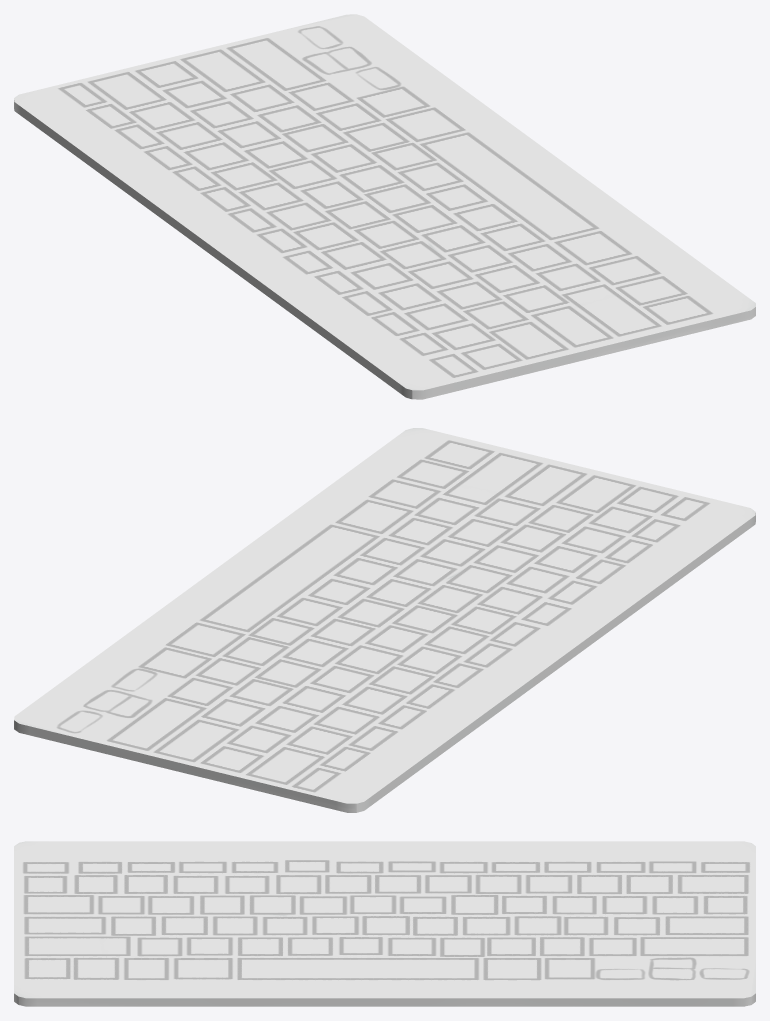
The model's file is toetsenbord.fbx.
3 views of the same model, one above another, from view 1: azimuth 30°, elevation 25°; view 2: azimuth 150°, elevation 25°; view 3: azimuth 270°, elevation 25° (orthographic). The views are drawn at different scales.
Parts seen in each view (by area): view 1: pCube1; view 2: pCube1; view 3: pCube1.
Boxes of the visible parts, x1,y1,x2,y2 form: pCube1: [14, 14, 755, 399]; pCube1: [14, 428, 755, 812]; pCube1: [14, 841, 755, 1006].
Bounding box in the file's own units: 20 × 0.5 × 40.
